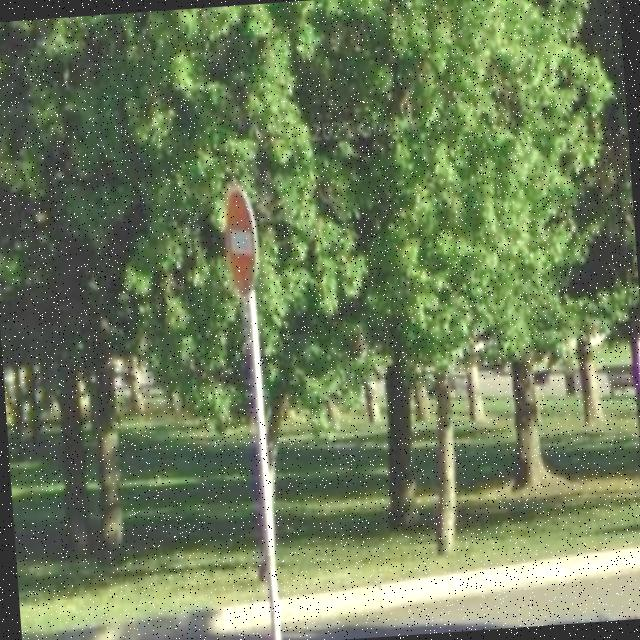Zakaz wjazdu: (218, 179, 266, 302)
